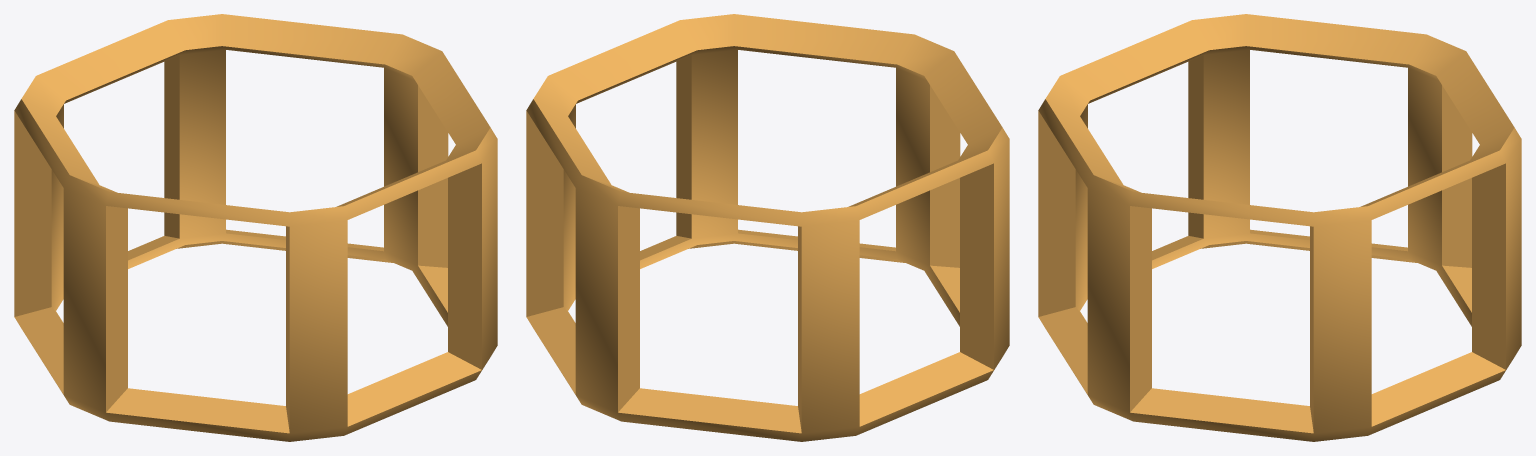
The model's file is CylinderMesh_05.fbx.
3 views of the same model, side by side, from view 1: azimuth 30°, elevation 25°; view 2: azimuth 150°, elevation 25°; view 3: azimuth 270°, elevation 25° (orthographic).
Visible parts, largest first — view 1: CylinderMesh_05; view 2: CylinderMesh_05; view 3: CylinderMesh_05.
Boxes of the visible parts, x1=… form: CylinderMesh_05: x1=14, y1=14, x2=497, y2=441; CylinderMesh_05: x1=526, y1=14, x2=1009, y2=441; CylinderMesh_05: x1=1038, y1=14, x2=1521, y2=441.
Bounding box in the file's own units: 305 × 160 × 305.
